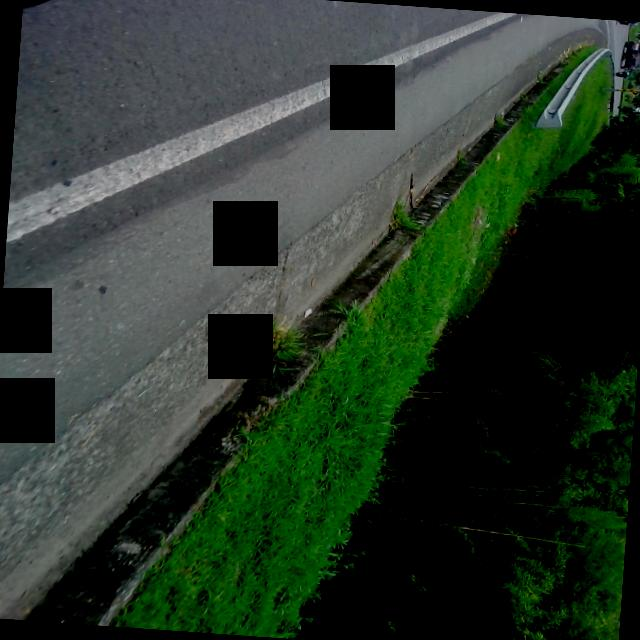DITCH: (0, 0, 631, 640), (0, 0, 612, 640)
